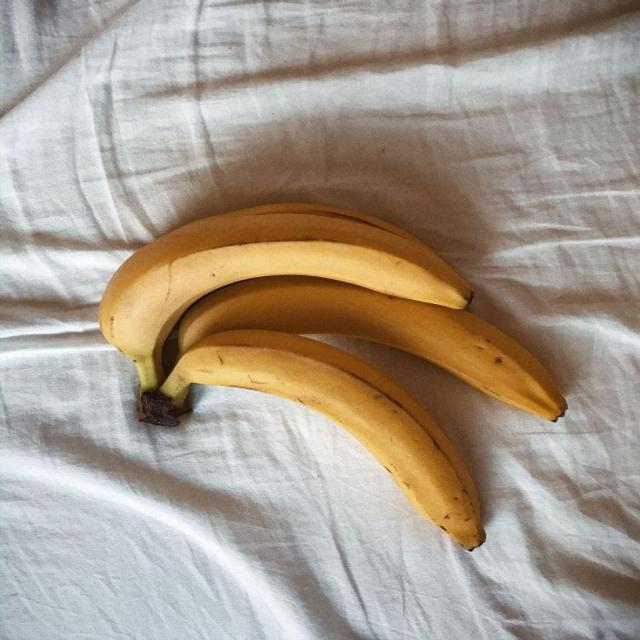unpeal banana: (142, 330, 485, 549), (100, 212, 472, 392), (179, 276, 566, 420), (219, 203, 423, 245)
